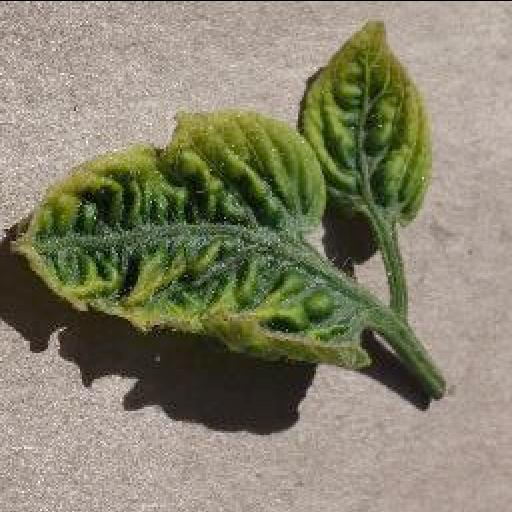disease_tomato: (4, 104, 370, 370), (297, 14, 431, 226)
